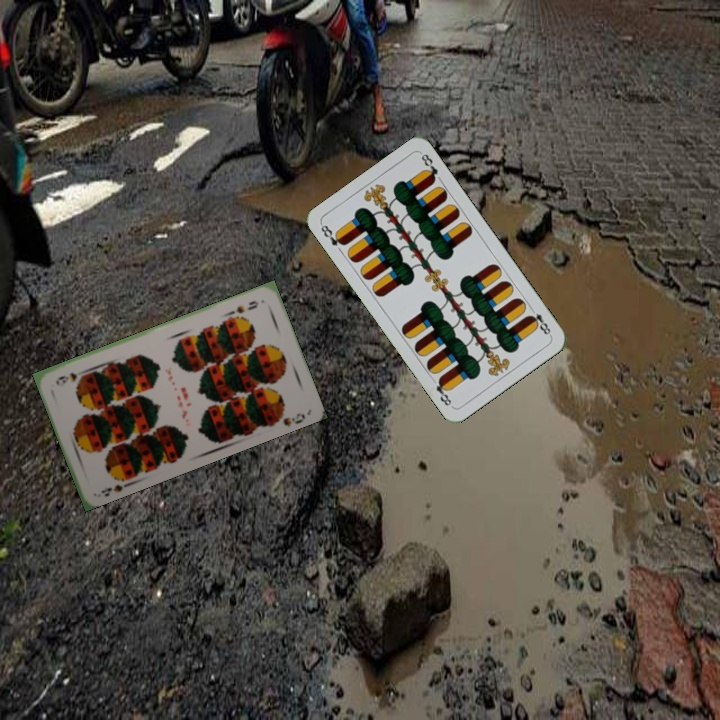E8: (524, 303, 554, 339), (317, 220, 348, 249)
S9: (97, 471, 134, 499), (226, 296, 261, 320)
